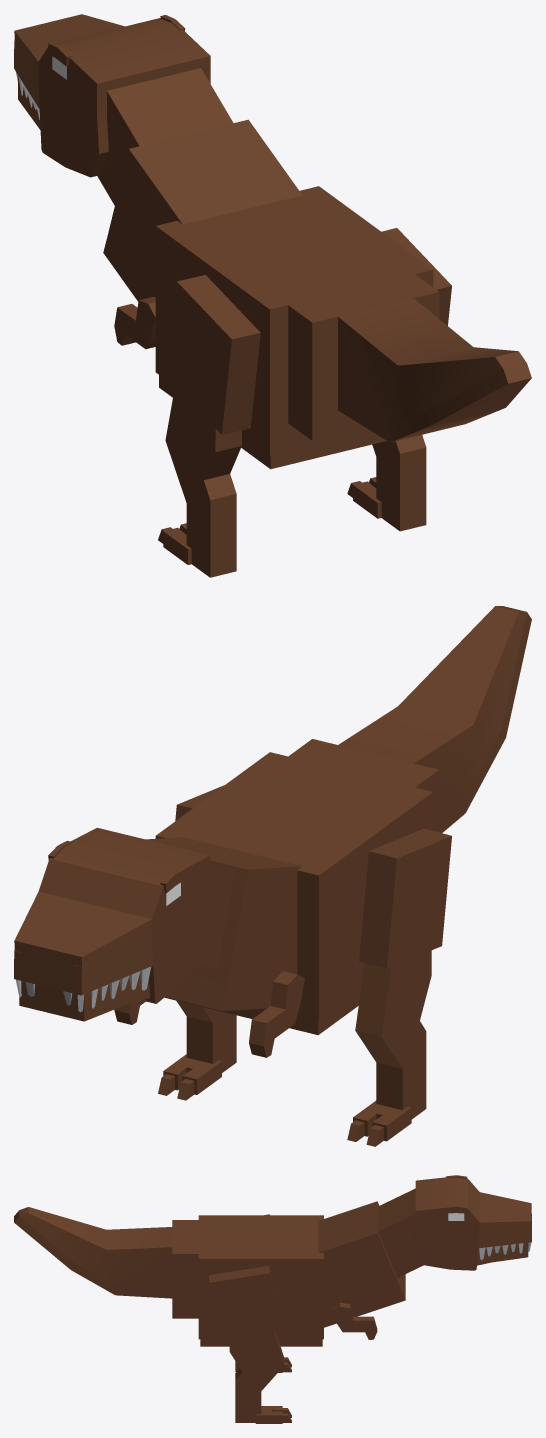
File: t_rex.obj
3 views of the same model, one above another, from view 1: azimuth 30°, elevation 25°; view 2: azimuth 150°, elevation 25°; view 3: azimuth 270°, elevation 25° (orthographic). The views are drawn at different scales.
Parts seen in each view (by area): view 1: Torso, LeftLeg, Tail, Head, Neck, BaseTail, Neck2, RightLeg, LeftArm, RightFoot, LeftFoot; view 2: Torso, Head, LeftLeg, Tail, Neck, BaseTail, RightLeg, LeftArm, LeftFoot, RightFoot, Neck2; view 3: Torso, Head, Tail, RightLeg, Neck, BaseTail, Neck2, RightArm, RightFoot.
Part boxes in pixels (box(x1,y1,x2,y2)): Torso: box(155, 186, 433, 469); LeftLeg: box(165, 275, 260, 577); Tail: box(338, 298, 531, 442); Head: box(14, 14, 210, 177); Neck: box(103, 119, 302, 301); BaseTail: box(288, 274, 439, 440); Neck2: box(97, 68, 233, 205); RightLeg: box(372, 228, 451, 531); LeftArm: box(114, 296, 155, 349); RightFoot: box(347, 477, 381, 518); LeftFoot: box(158, 523, 191, 564); Torso: box(155, 752, 433, 1035); Head: box(14, 827, 212, 1021); LeftLeg: box(355, 828, 451, 1119); Tail: box(338, 606, 531, 832); Neck: box(146, 837, 301, 1010); BaseTail: box(288, 739, 439, 832); RightLeg: box(175, 785, 236, 1072); LeftArm: box(249, 971, 304, 1057); LeftFoot: box(347, 1100, 411, 1146); RightFoot: box(158, 1054, 221, 1100); Neck2: box(199, 864, 234, 967); Torso: box(198, 1215, 323, 1346); Head: box(413, 1175, 531, 1270); Tail: box(14, 1207, 172, 1298); RightLeg: box(209, 1265, 284, 1422); Neck: box(318, 1201, 405, 1327); BaseTail: box(172, 1220, 198, 1318); Neck2: box(378, 1188, 423, 1277); RightArm: box(332, 1302, 377, 1339); RightFoot: box(255, 1406, 291, 1423).
Size of the model in its own units: 8.6 by 13.6 by 31.45.
